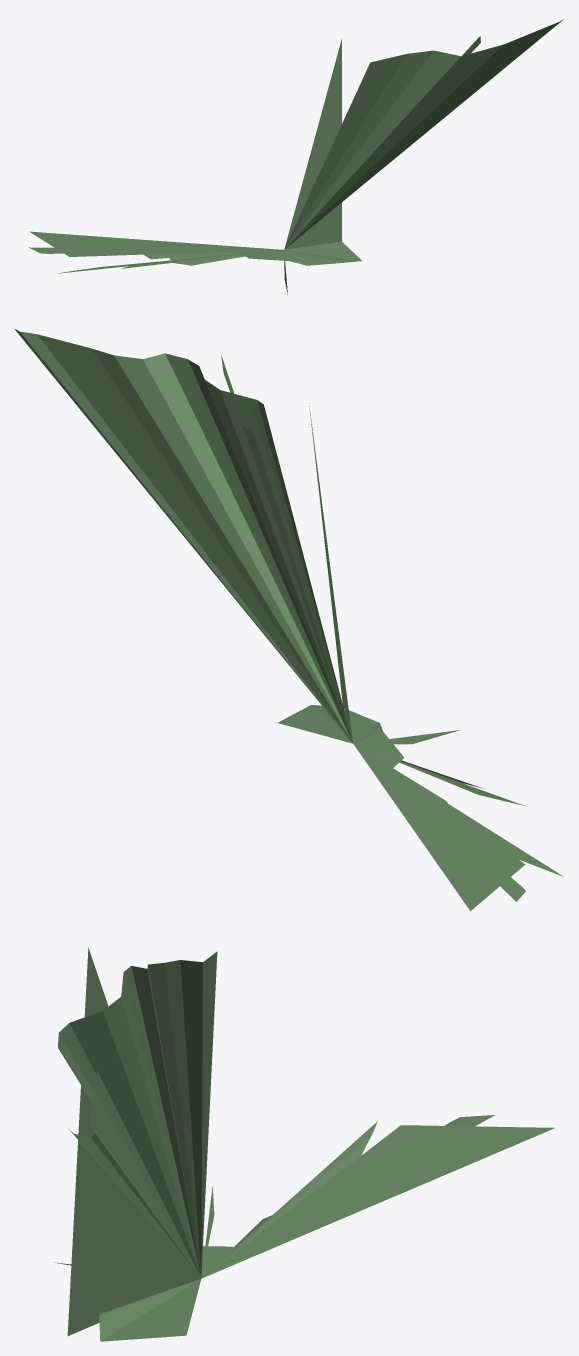
Rendered from c_1636_17832_forest.glb.
The picture shows the model from 3 angles, top to bottom: view 1: azimuth 30°, elevation 25°; view 2: azimuth 150°, elevation 25°; view 3: azimuth 270°, elevation 25°; orthographic projection. The views are drawn at different scales.
Parts seen in each view (by area): view 1: geometry_0; view 2: geometry_0; view 3: geometry_0.
Part boxes in pixels (x1,y1,x2,y2): geometry_0: [28, 19, 563, 294]; geometry_0: [14, 329, 563, 910]; geometry_0: [55, 947, 554, 1341].
Size of the model in its own units: 1030 by 458 by 539.
